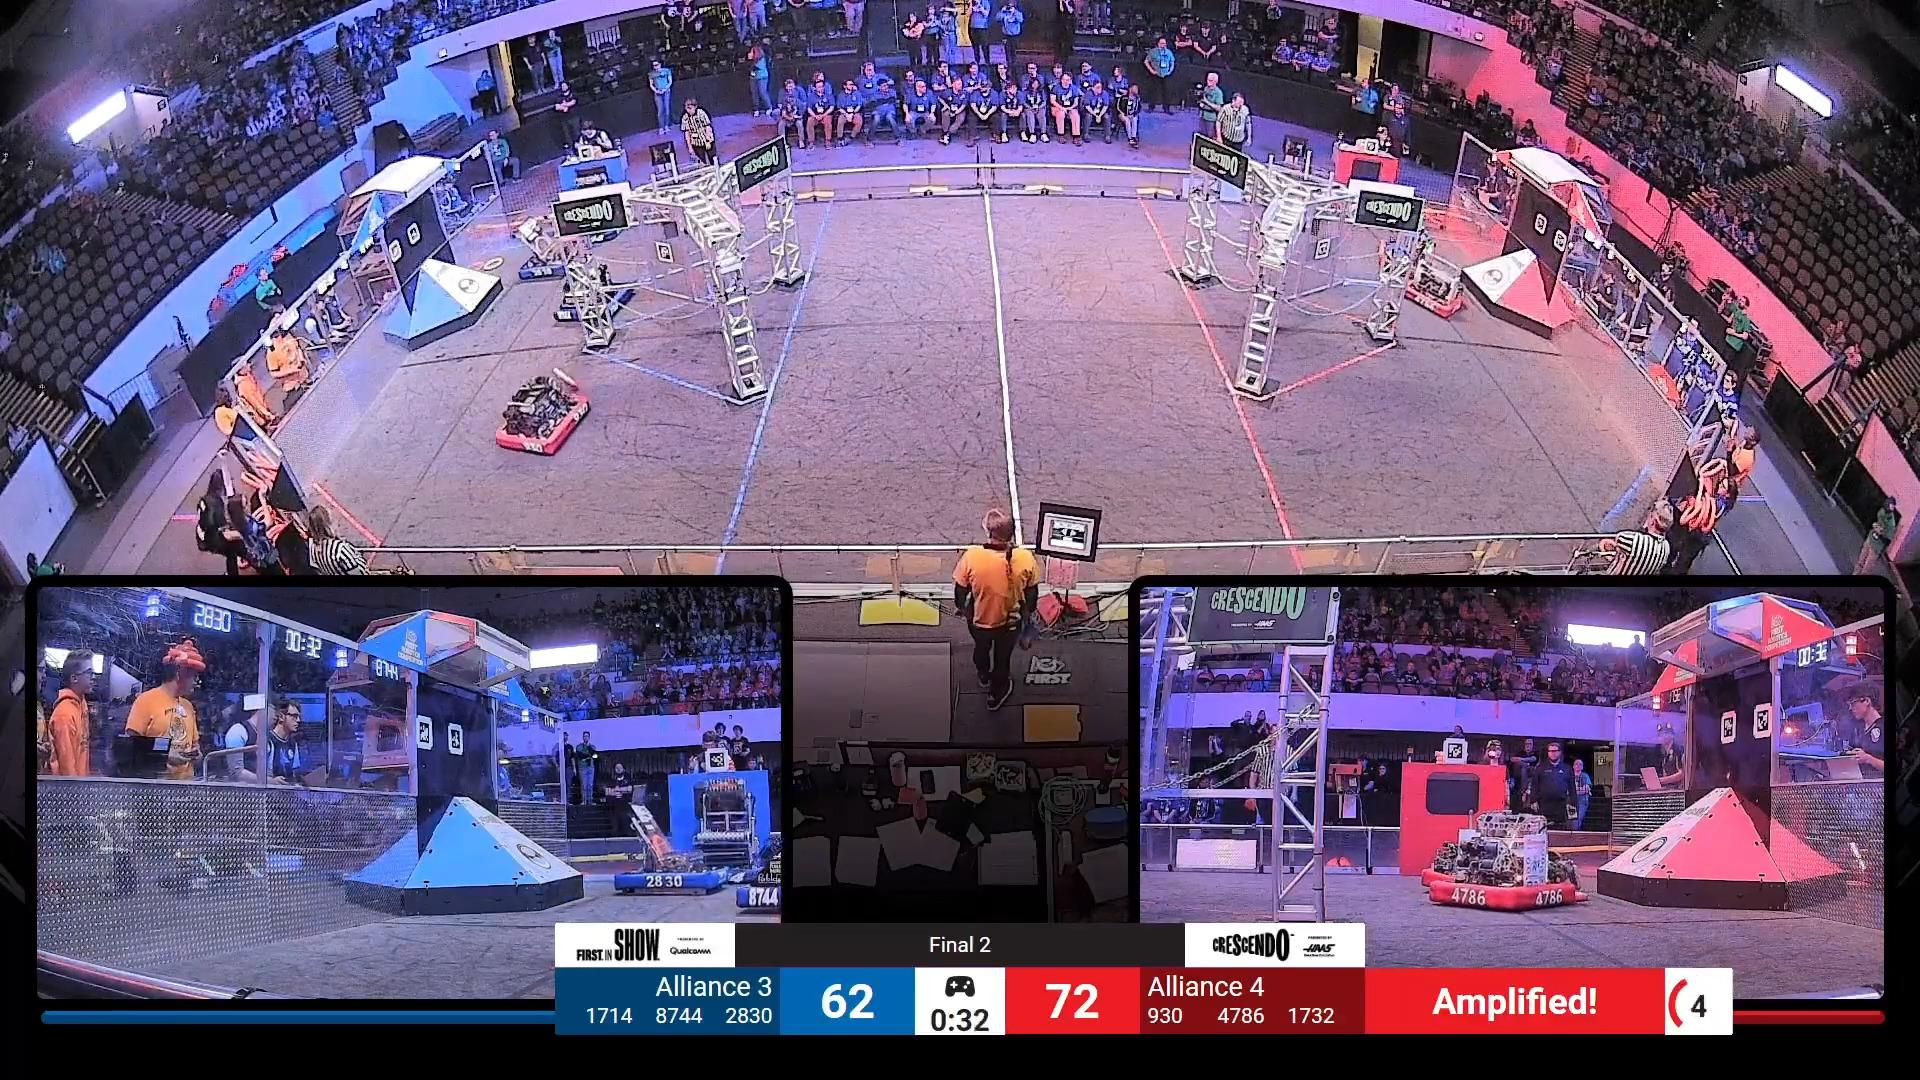robot: (1428, 808, 1593, 910), (611, 779, 727, 898), (496, 367, 589, 456), (553, 257, 636, 322), (1399, 255, 1469, 319), (513, 218, 580, 278), (735, 833, 781, 913)
